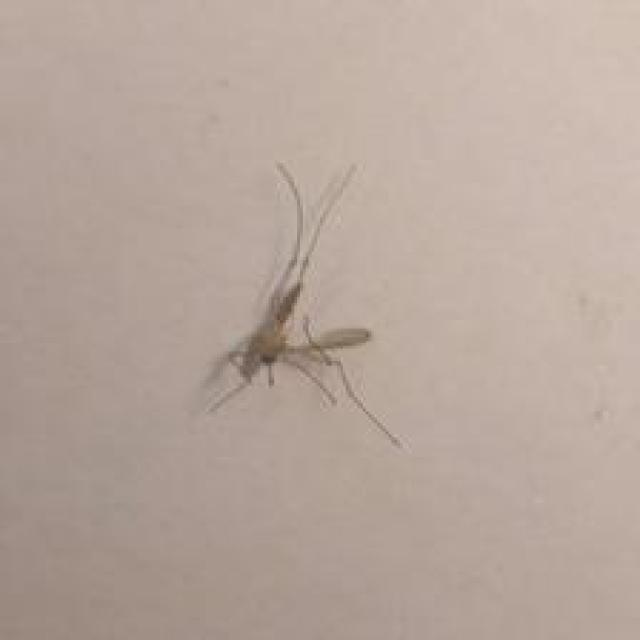Culex: (200, 157, 406, 452)
